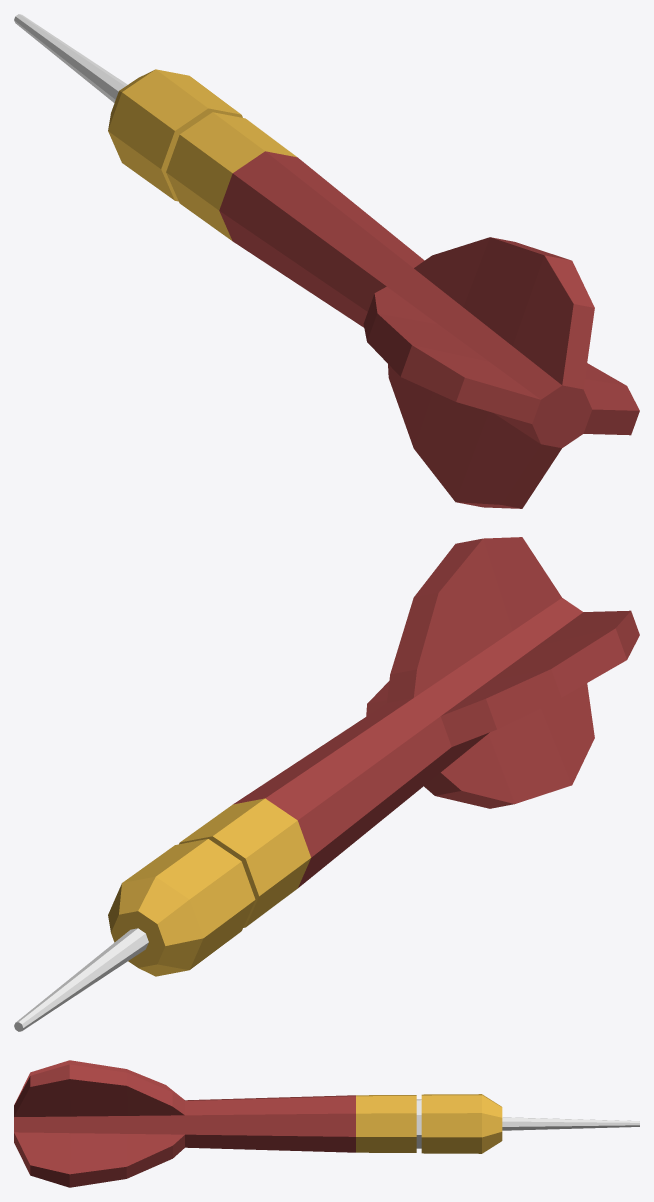
The model's file is Flechette.fbx.
The picture shows the model from 3 angles, top to bottom: view 1: azimuth 30°, elevation 25°; view 2: azimuth 150°, elevation 25°; view 3: azimuth 270°, elevation 25°; orthographic projection. The views are drawn at different scales.
Visible parts, largest first — view 1: Flechette; view 2: Flechette; view 3: Flechette.
Part boxes in pixels (x1=…): Flechette: x1=14, y1=14, x2=639, y2=508; Flechette: x1=14, y1=537, x2=639, y2=1031; Flechette: x1=14, y1=1060, x2=639, y2=1187.
Bounding box in the file's own units: 2.42 × 2.42 × 10.06.
